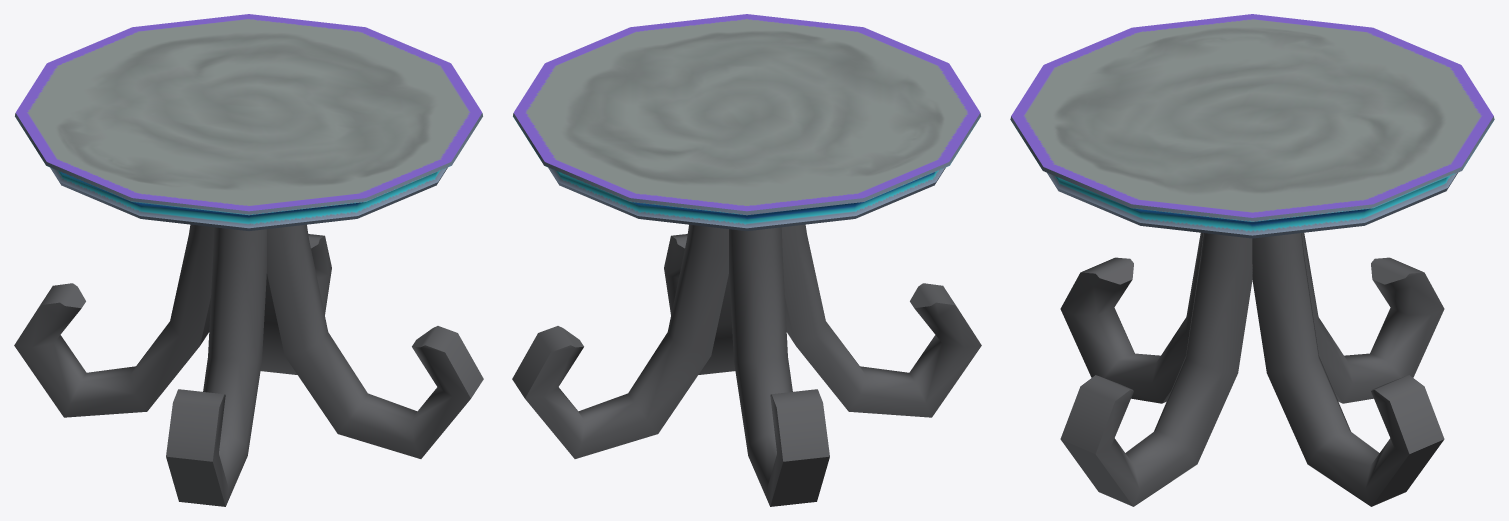
File: Table.fbx
3 renders of one model, left to right at view 1: azimuth 30°, elevation 25°; view 2: azimuth 150°, elevation 25°; view 3: azimuth 270°, elevation 25°, orthographic. The views are drawn at different scales.
Visible parts, largest first — view 1: Table; view 2: Table; view 3: Table.
Boxes of the visible parts, x1,y1,x2,y2 form: Table: (14,14,483,506); Table: (512,14,981,506); Table: (1010,14,1494,506).
Bounding box in the file's own units: 109 × 81.12 × 109.
Materials: 1 (1 with a texture image).
